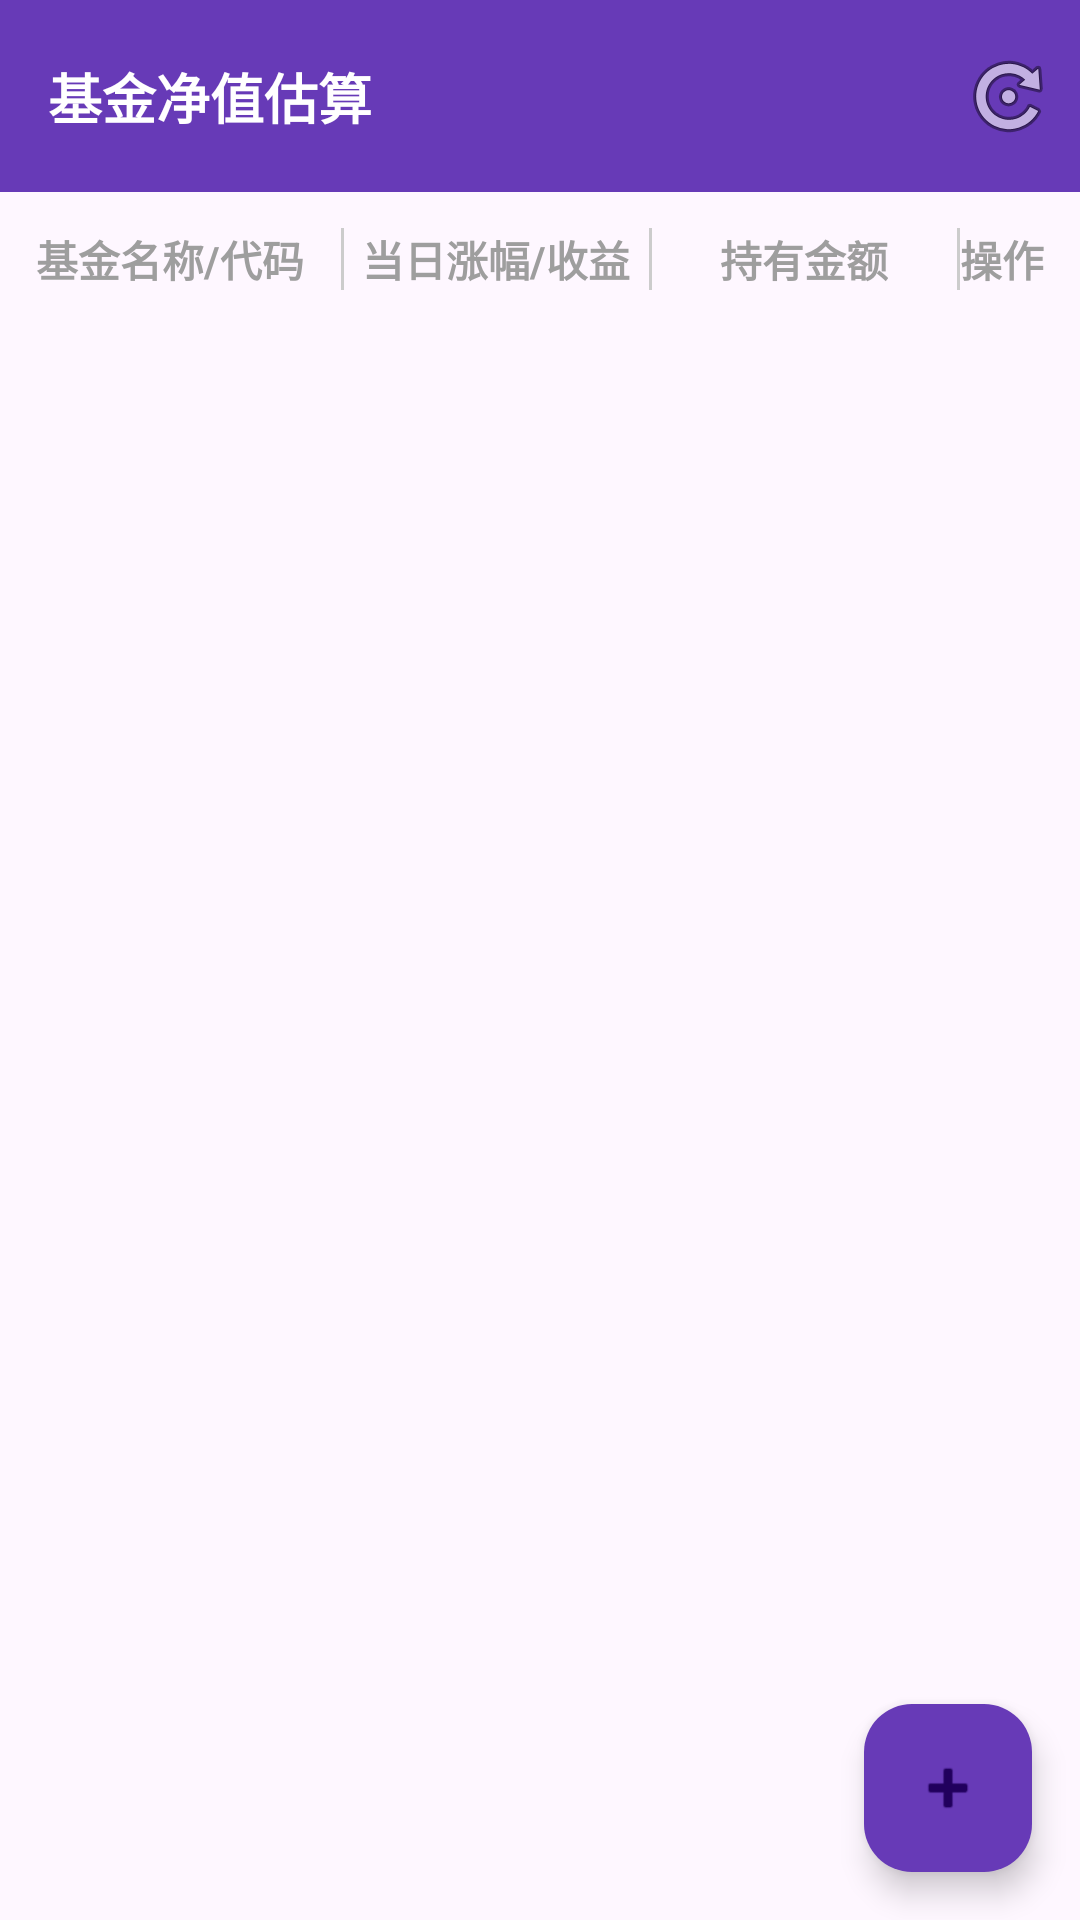

Named icons in this screenshot (1080w x 1920h) and their centers, (x=x, y=y):
add: (x=948, y=1788)
刷新数据: (x=1008, y=96)
